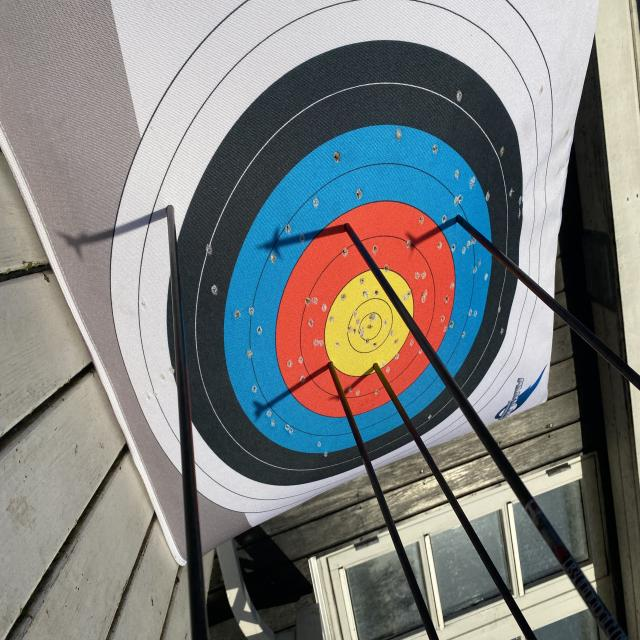Arrow_Blue: (453, 206, 472, 238)
Arrow_Red: (322, 351, 348, 388), (338, 213, 358, 244)
Arrow_White: (156, 190, 183, 234)
Arrow_Yellow: (367, 354, 393, 381)
